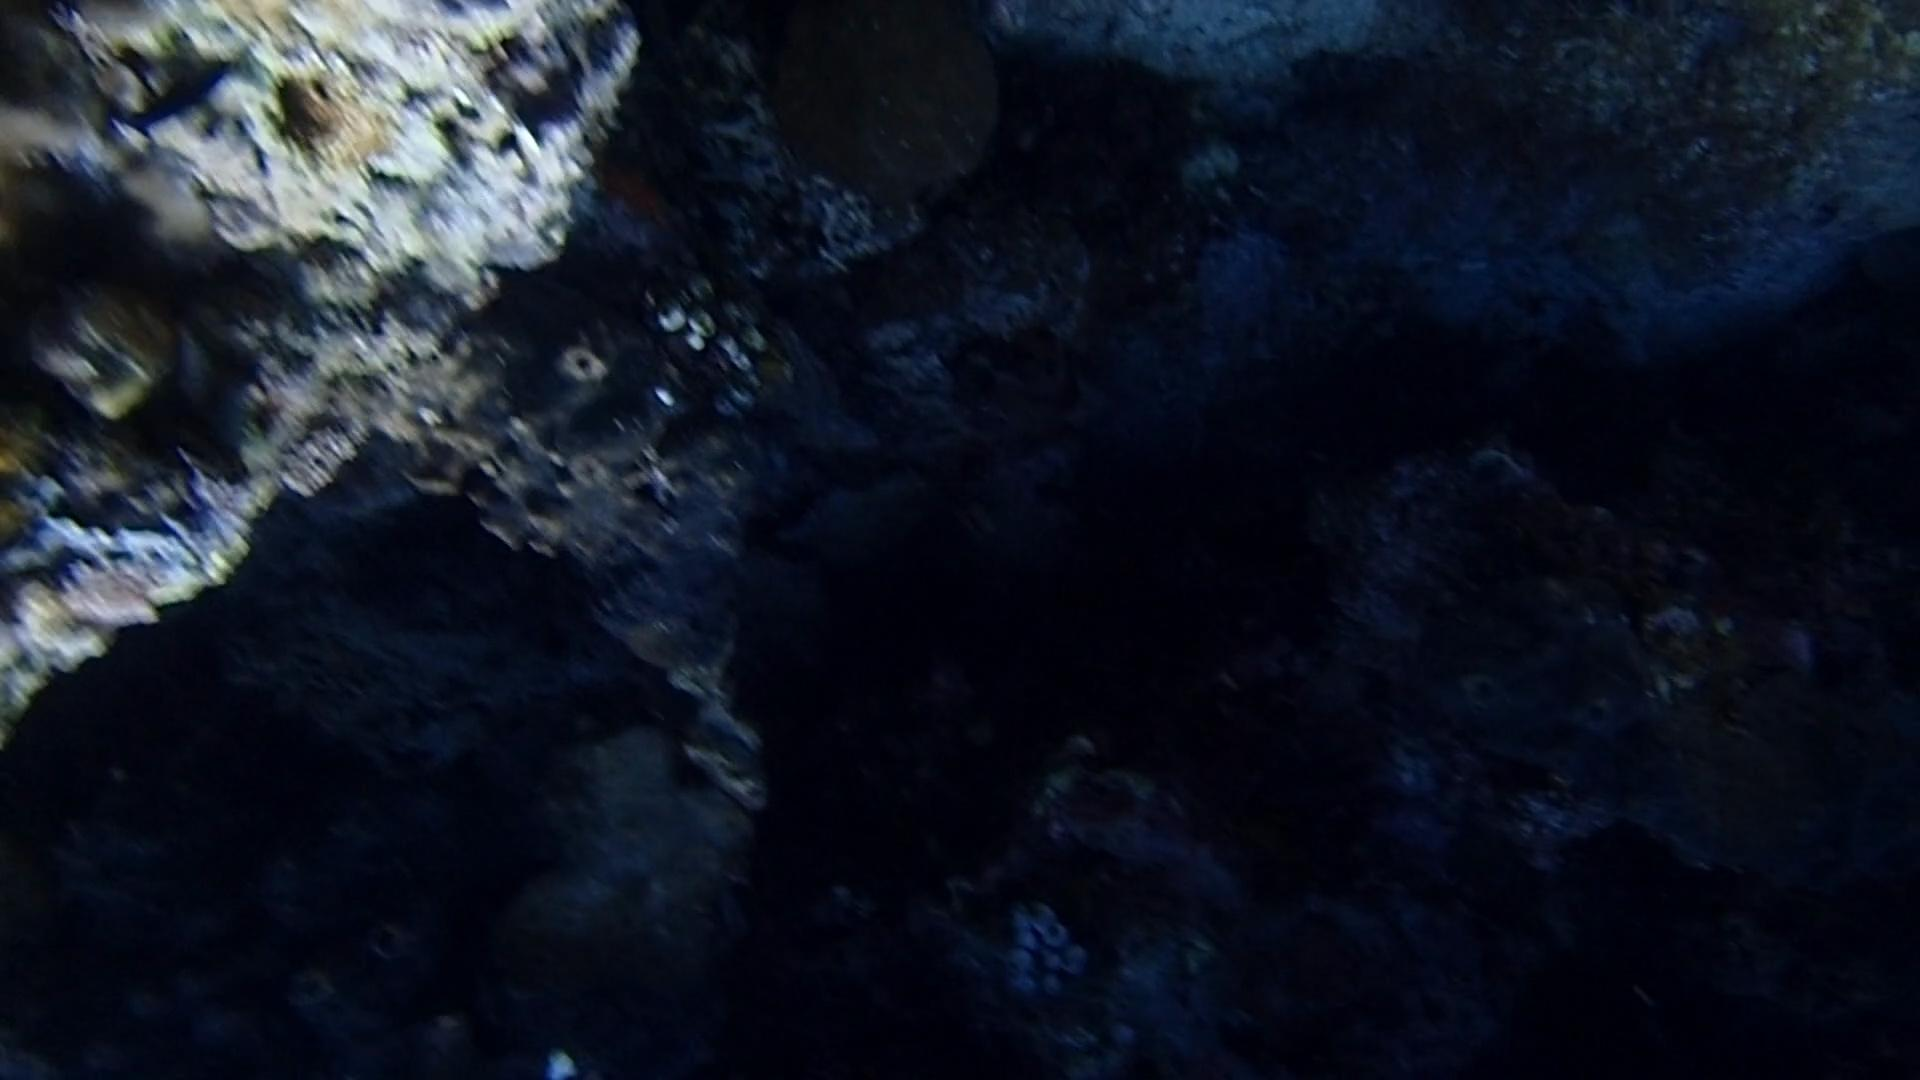Dark Fish: (119, 41, 237, 135)
